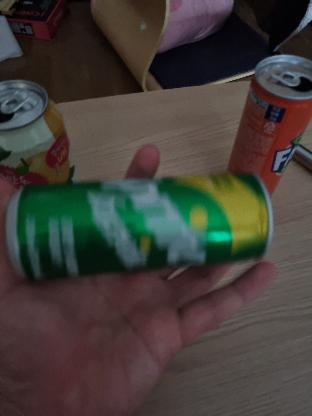Can: (10, 176, 274, 274)
